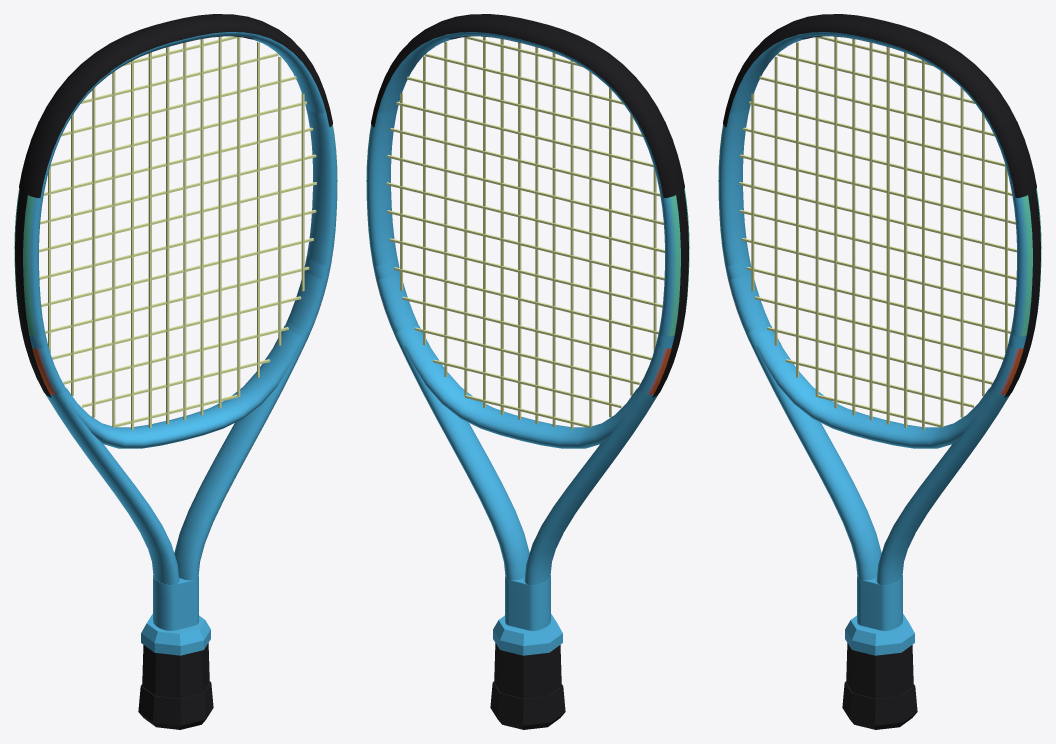
File: yonex-junior-17.glb
The picture shows the model from 3 angles, left to right: view 1: azimuth 30°, elevation 25°; view 2: azimuth 150°, elevation 25°; view 3: azimuth 330°, elevation 25°; orthographic projection.
Parts seen in each view (by area): view 1: frame, strings_mains, strings_crosses, bumper, grip, butt_cap, collar, grommets; view 2: frame, strings_mains, strings_crosses, bumper, grip, butt_cap, collar, grommets; view 3: frame, strings_mains, strings_crosses, bumper, grip, butt_cap, collar, grommets.
Part boxes in pixels (box(x1,y1,x2,y2)): frame: box(14, 32, 337, 630); strings_mains: box(48, 36, 304, 429); strings_crosses: box(39, 36, 316, 427); bumper: box(19, 14, 332, 197); grip: box(142, 643, 209, 698); butt_cap: box(138, 681, 213, 729); collar: box(141, 614, 210, 655); grommets: box(15, 189, 51, 397); frame: box(366, 32, 689, 630); strings_mains: box(400, 36, 656, 429); strings_crosses: box(386, 36, 664, 427); bumper: box(371, 14, 684, 197); grip: box(494, 643, 561, 698); butt_cap: box(490, 681, 565, 729); collar: box(493, 614, 562, 655); grommets: box(652, 189, 688, 397); frame: box(718, 32, 1041, 630); strings_mains: box(751, 36, 1007, 429); strings_crosses: box(739, 36, 1016, 427); bumper: box(723, 14, 1036, 197); grip: box(846, 643, 913, 698); butt_cap: box(842, 681, 917, 729); collar: box(845, 614, 914, 655); grommets: box(1004, 189, 1040, 397).
Size of the model in its own units: 0.206 by 0.4321 by 0.0396.
